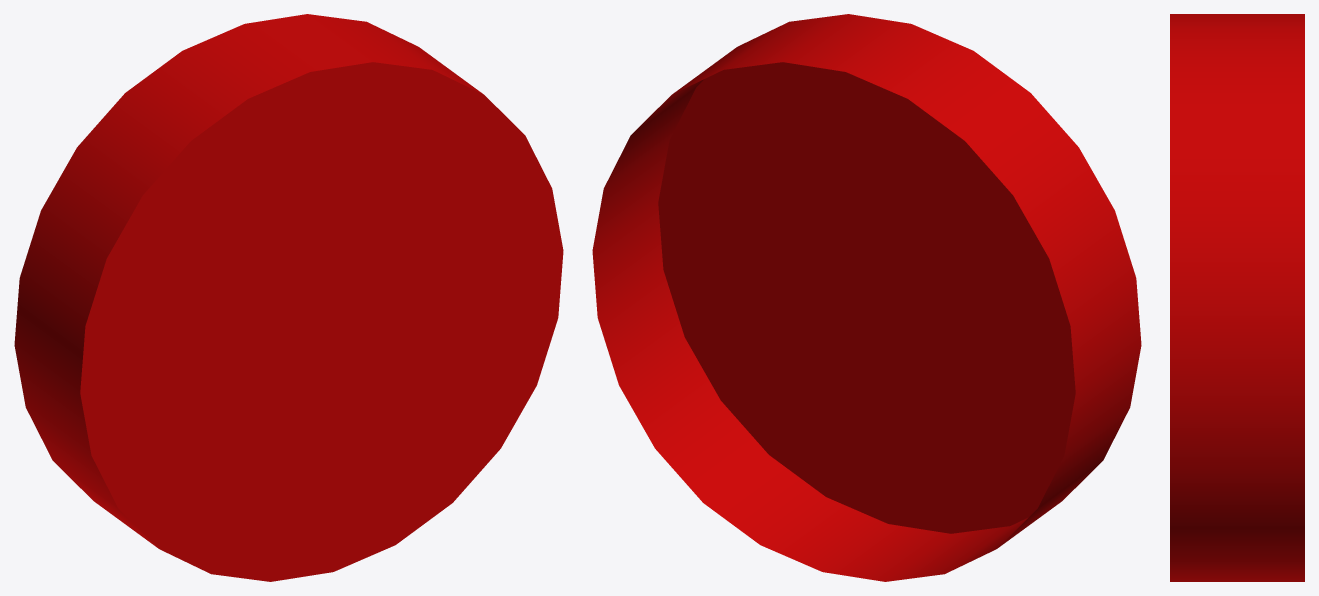
File: original-9.obj
3 views of the same model, side by side, from view 1: azimuth 30°, elevation 25°; view 2: azimuth 150°, elevation 25°; view 3: azimuth 270°, elevation 25° (orthographic). The views are drawn at different scales.
Visible parts, largest first — view 1: #ID58; view 2: #ID58; view 3: #ID58.
Part boxes in pixels (<box>): #ID58: <box>14,14,563,581</box>; #ID58: <box>592,14,1141,581</box>; #ID58: <box>1170,14,1304,581</box>.
Size of the model in its own units: 0.214 by 0.214 by 0.0504.
